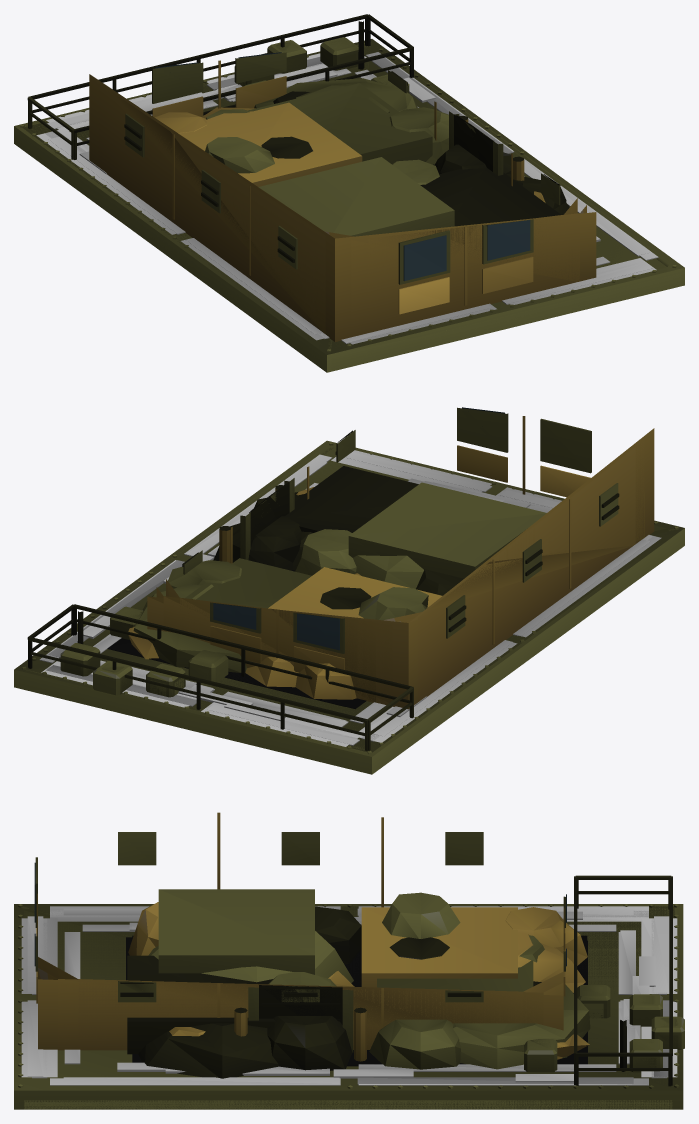
The model's file is meridian_barracks_heavily_damaged.glb.
3 renders of one model, top to bottom at view 1: azimuth 30°, elevation 25°; view 2: azimuth 150°, elevation 25°; view 3: azimuth 270°, elevation 25°, orthographic. The views are drawn at different scales.
Parts seen in each view (by area): view 1: body (×3); view 2: body (×3); view 3: body (×3).
Boxes of the visible parts, x1,y1,x2,y2 form: body (×3): [14, 14, 684, 372]; body (×3): [14, 407, 684, 774]; body (×3): [14, 812, 684, 1109].
Bounding box in the file's own units: 7.4 × 2.4 × 11.23.
